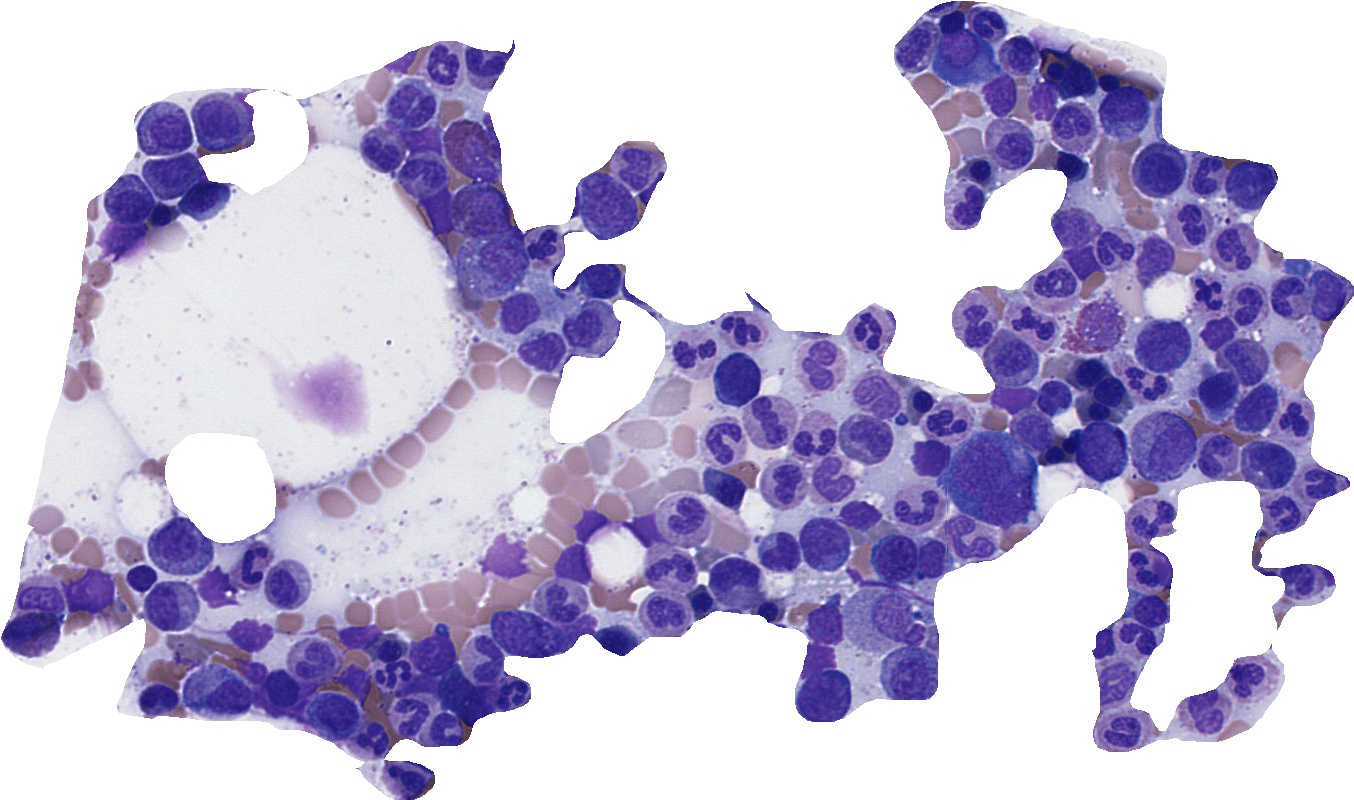objectness: (939, 30, 989, 80), (756, 529, 806, 579), (388, 77, 438, 127), (519, 222, 569, 272), (225, 543, 275, 593), (952, 300, 1002, 350), (1166, 203, 1216, 253), (1102, 706, 1152, 756), (1030, 265, 1080, 315), (289, 635, 339, 685), (1182, 146, 1232, 196), (940, 515, 990, 565), (1211, 222, 1261, 272), (845, 306, 895, 356), (1119, 544, 1169, 594), (1183, 267, 1233, 317), (1259, 489, 1309, 539), (855, 370, 905, 420), (1049, 98, 1099, 148), (419, 44, 469, 94), (487, 667, 537, 717), (1088, 219, 1138, 269), (896, 488, 946, 538), (1295, 459, 1345, 509), (1129, 494, 1179, 544), (1225, 282, 1275, 332), (1190, 430, 1240, 480), (415, 705, 465, 755), (1269, 393, 1319, 443), (1111, 615, 1161, 665), (699, 417, 749, 467), (346, 713, 396, 763), (803, 455, 853, 505), (1088, 657, 1138, 707), (670, 326, 720, 376), (924, 400, 974, 450), (366, 649, 416, 699), (641, 544, 691, 594), (749, 396, 799, 446), (1263, 272, 1313, 322), (1006, 301, 1056, 351), (388, 688, 438, 738), (1225, 655, 1275, 705), (1122, 359, 1172, 409), (789, 415, 839, 465), (719, 305, 769, 355), (796, 337, 846, 387), (987, 119, 1037, 169), (1240, 440, 1290, 490), (984, 336, 1034, 386), (710, 558, 760, 608), (1052, 205, 1102, 255), (1099, 86, 1149, 136), (138, 106, 188, 156), (1132, 145, 1182, 195), (266, 560, 316, 610), (100, 177, 150, 227), (195, 96, 245, 146), (147, 582, 197, 632), (840, 413, 890, 463), (144, 153, 194, 203), (3, 611, 53, 661), (451, 187, 501, 237), (1072, 301, 1122, 351), (445, 122, 495, 172), (607, 146, 657, 196), (943, 179, 993, 229), (1271, 555, 1321, 605), (1222, 335, 1272, 385), (993, 31, 1043, 81), (759, 463, 809, 513), (661, 498, 711, 548), (402, 145, 452, 195), (893, 24, 943, 74), (358, 123, 408, 173), (640, 585, 690, 635), (536, 577, 586, 627), (1180, 685, 1230, 735), (459, 635, 509, 685), (457, 45, 507, 95), (1075, 425, 1125, 475), (500, 612, 550, 662), (799, 518, 849, 568), (1231, 384, 1281, 434), (799, 673, 849, 723), (1192, 367, 1242, 417), (888, 653, 938, 703), (400, 114, 450, 164), (436, 671, 486, 721), (1020, 75, 1070, 125), (801, 595, 851, 645), (410, 189, 460, 239), (552, 601, 602, 651), (224, 605, 274, 655), (1192, 306, 1242, 356), (13, 572, 63, 622), (99, 217, 149, 267), (1056, 236, 1106, 286), (333, 654, 383, 704), (1030, 45, 1080, 95), (1082, 54, 1132, 104), (623, 505, 673, 555), (393, 659, 443, 709), (309, 369, 359, 419), (1220, 161, 1270, 211), (564, 501, 614, 551), (984, 375, 1034, 425), (333, 611, 383, 661), (189, 562, 239, 612), (1052, 55, 1102, 105), (893, 608, 943, 658), (132, 675, 182, 725), (479, 531, 529, 581), (910, 534, 960, 584), (113, 555, 163, 605), (501, 281, 551, 331), (852, 593, 902, 643), (258, 664, 308, 714), (1134, 234, 1184, 284), (1010, 404, 1060, 454), (137, 190, 187, 240), (549, 540, 599, 590), (577, 255, 627, 305), (1079, 618, 1129, 668), (565, 303, 615, 353), (308, 690, 358, 740), (981, 68, 1031, 118), (407, 626, 457, 676), (593, 615, 643, 665), (62, 566, 112, 616), (518, 327, 568, 377), (905, 433, 955, 483), (800, 630, 850, 680), (838, 491, 888, 541), (1140, 321, 1190, 371), (1029, 373, 1079, 423), (711, 356, 761, 406), (364, 624, 414, 674), (1060, 349, 1110, 399), (1045, 139, 1095, 189), (675, 577, 725, 627), (872, 534, 922, 584), (179, 175, 229, 225), (699, 464, 749, 514), (1122, 584, 1172, 634), (1029, 431, 1079, 481), (1084, 366, 1134, 416), (894, 376, 944, 426), (747, 585, 797, 635), (1070, 387, 1120, 437), (954, 146, 1004, 196), (1140, 418, 1190, 468), (151, 523, 201, 573), (469, 237, 519, 287), (965, 455, 1015, 505), (962, 0, 1012, 49), (1305, 268, 1354, 318), (379, 753, 429, 800), (928, 0, 978, 47)
